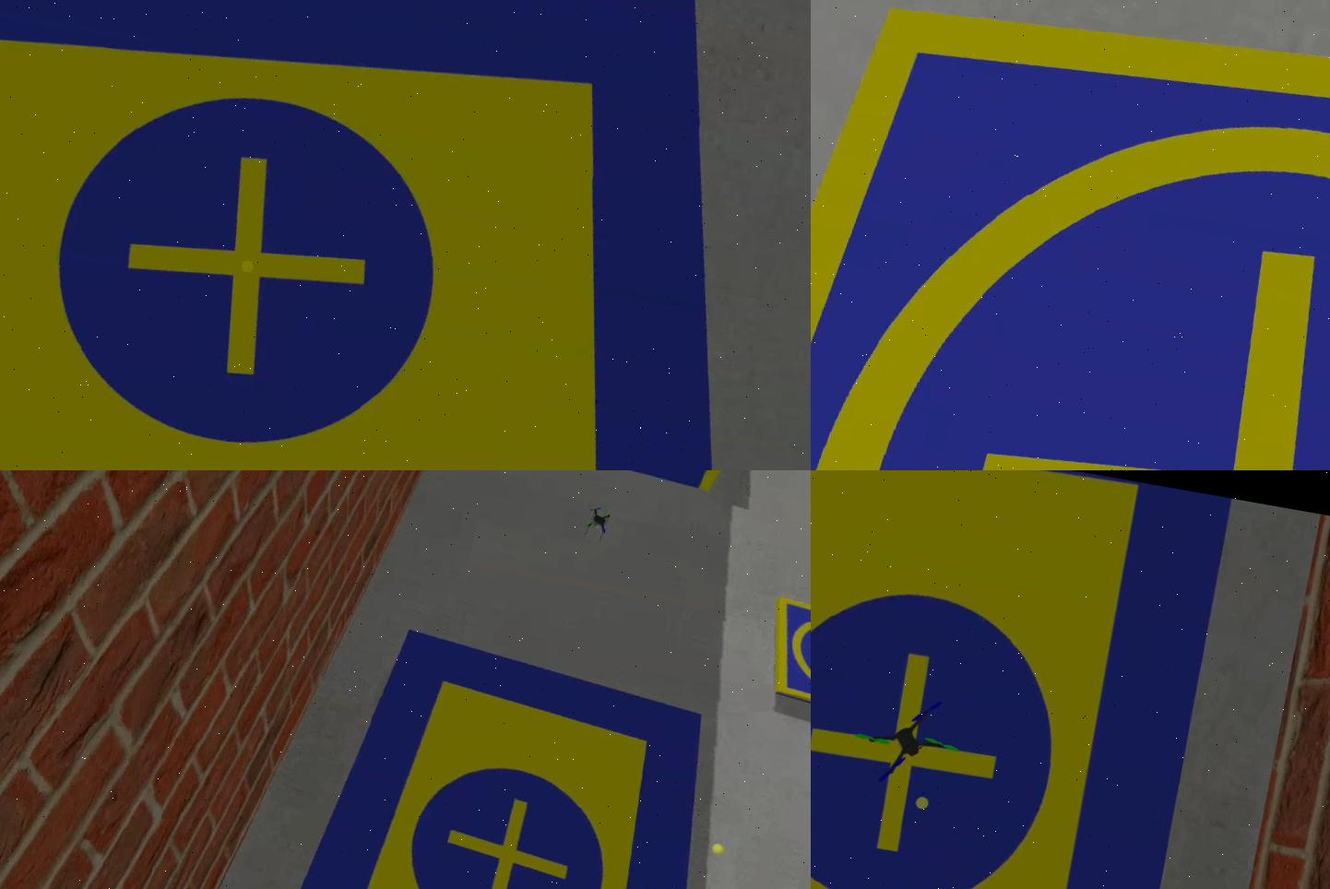large_base: (1, 1, 812, 471), (812, 471, 1230, 889), (220, 609, 754, 889)
small_base: (812, 1, 1330, 471), (762, 591, 812, 736)
